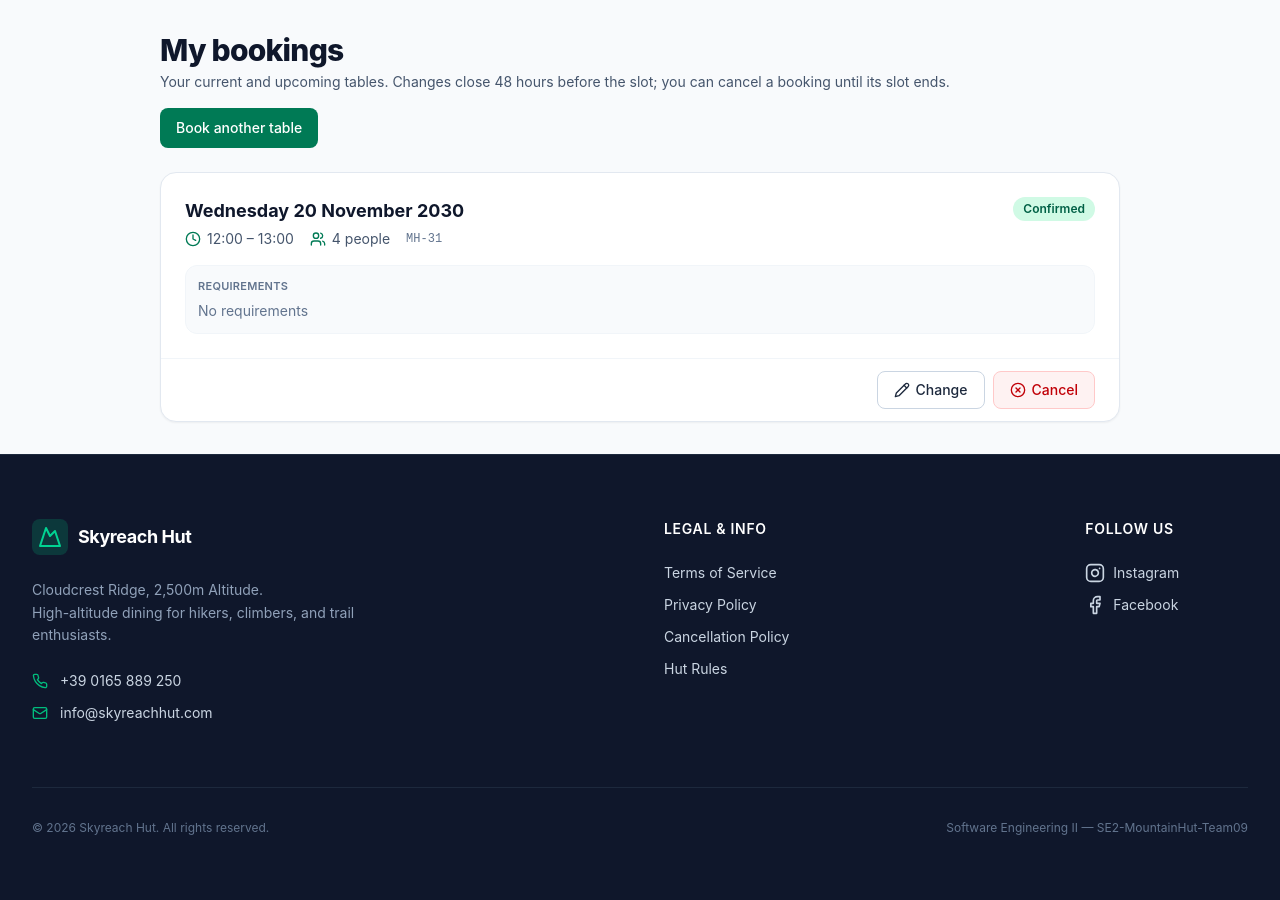
Test: MH-08 cancel a booking – hiker (My bookings) › shows the SLOT_ENDED refusal of the API and reloads the list
Step 1. Click the button with aria-label "Cancel booking MH-" → x=1044, y=390, box [992,370,1095,408]
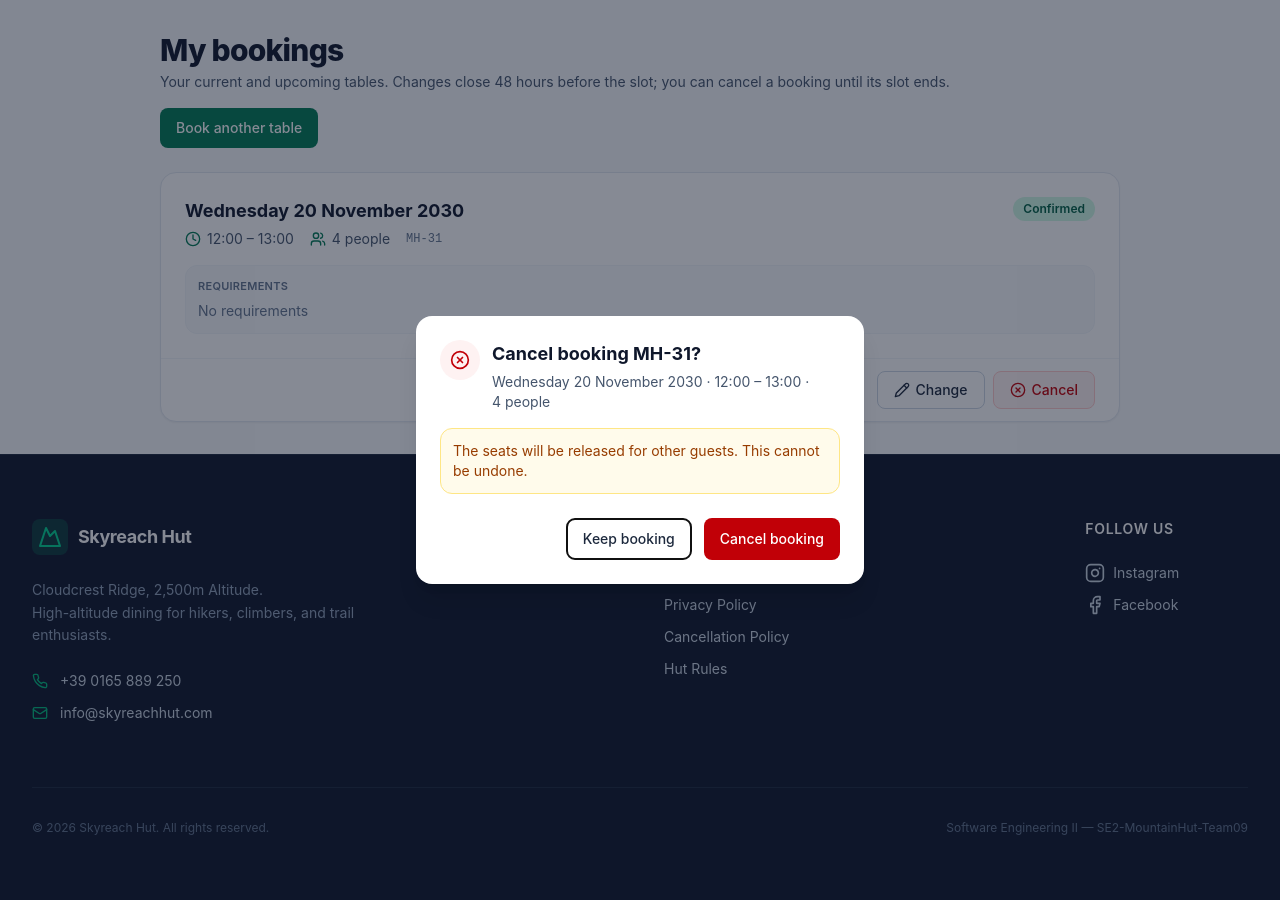
Step 2. Click the button "Cancel booking" → x=772, y=539, box [704,518,840,560]
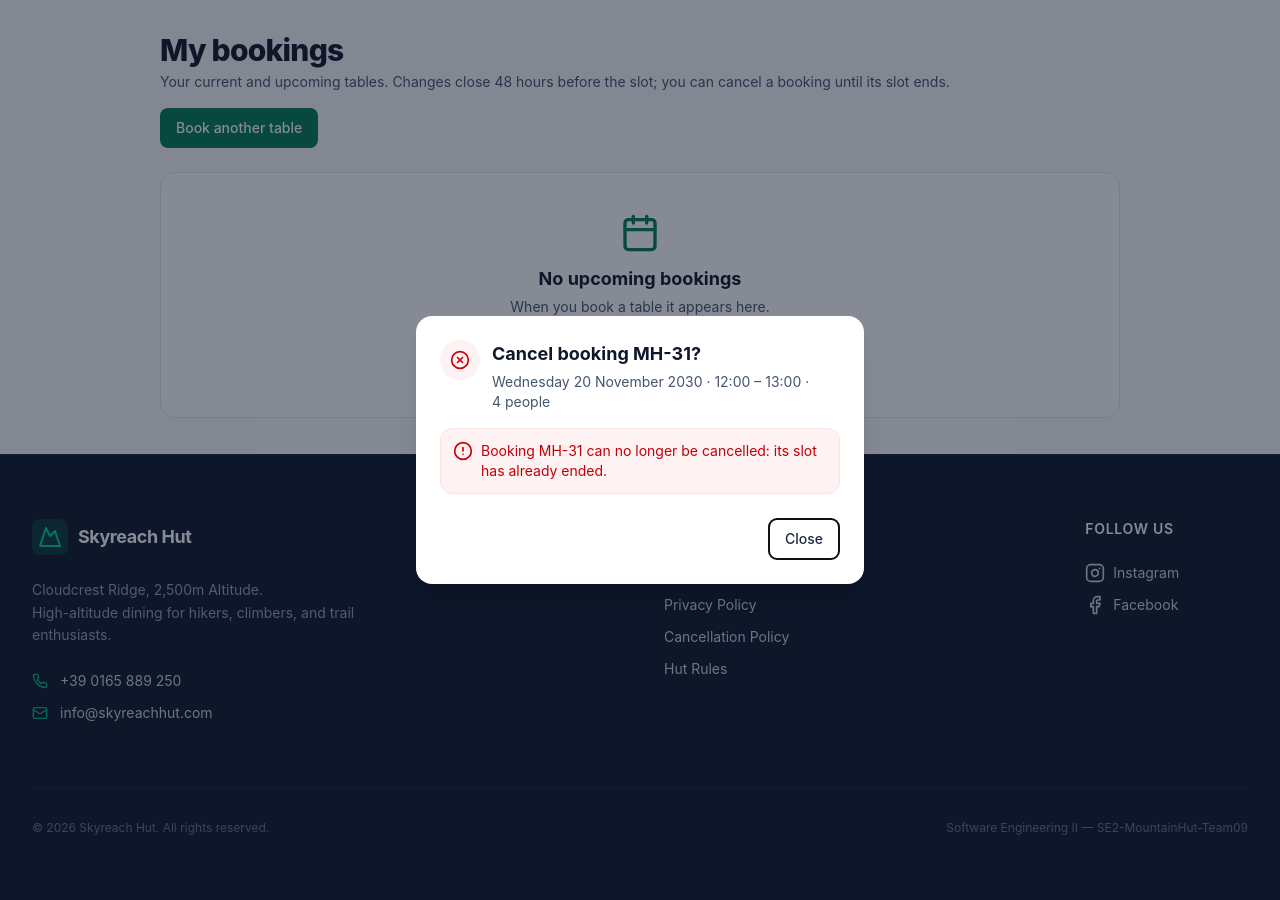
Check: the message reads "Booking MH-31 can no longer be cancelled: its slot has already ended.", box [481,442,817,479]
Check: the heading "No upcoming bookings" is shown, box [539,268,741,289]
